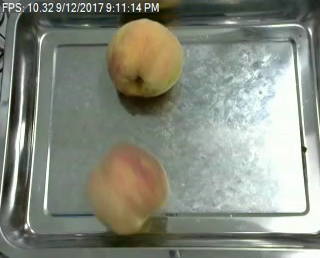Peach: (88, 142, 170, 235), (106, 18, 184, 97)
